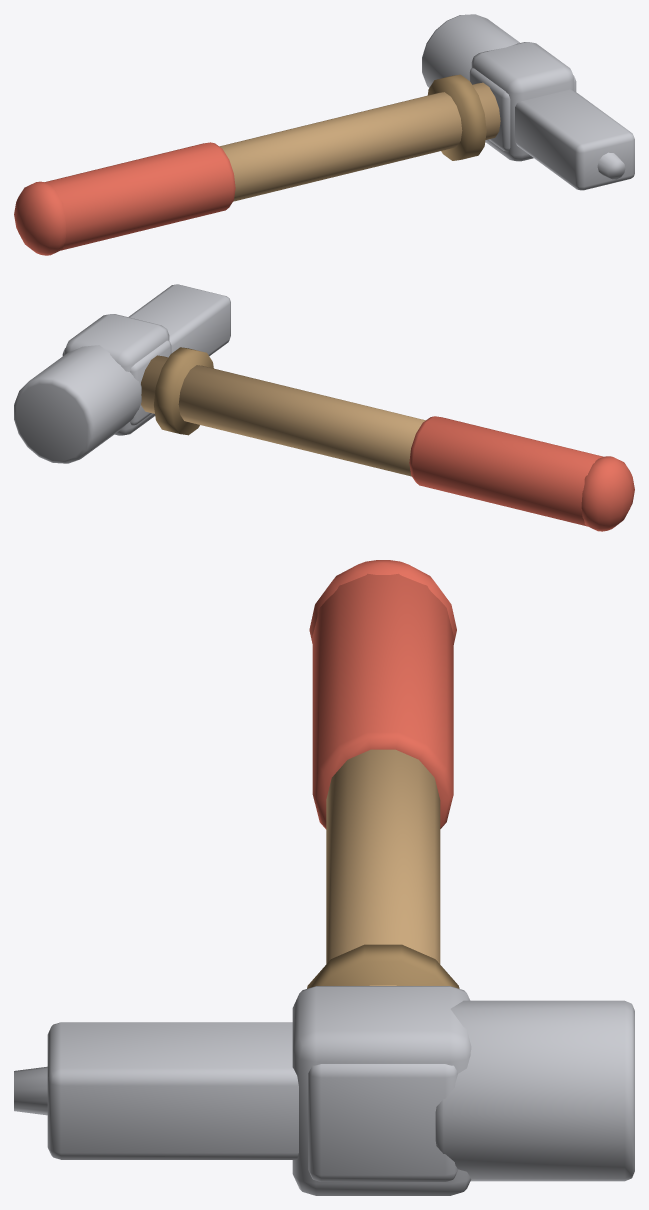
The model's file is hammer.glb.
The picture shows the model from 3 angles, top to bottom: view 1: azimuth 30°, elevation 25°; view 2: azimuth 150°, elevation 25°; view 3: azimuth 270°, elevation 25°; orthographic projection. The views are drawn at different scales.
Visible parts, largest first — view 1: Hammer; view 2: Hammer; view 3: Hammer.
Part boxes in pixels (x1,y1,x2,y2): Hammer: (14,14,634,255); Hammer: (14,284,634,531); Hammer: (14,560,634,1195).
Bounding box in the file's own units: 0.3666 × 0.054 × 0.185.
